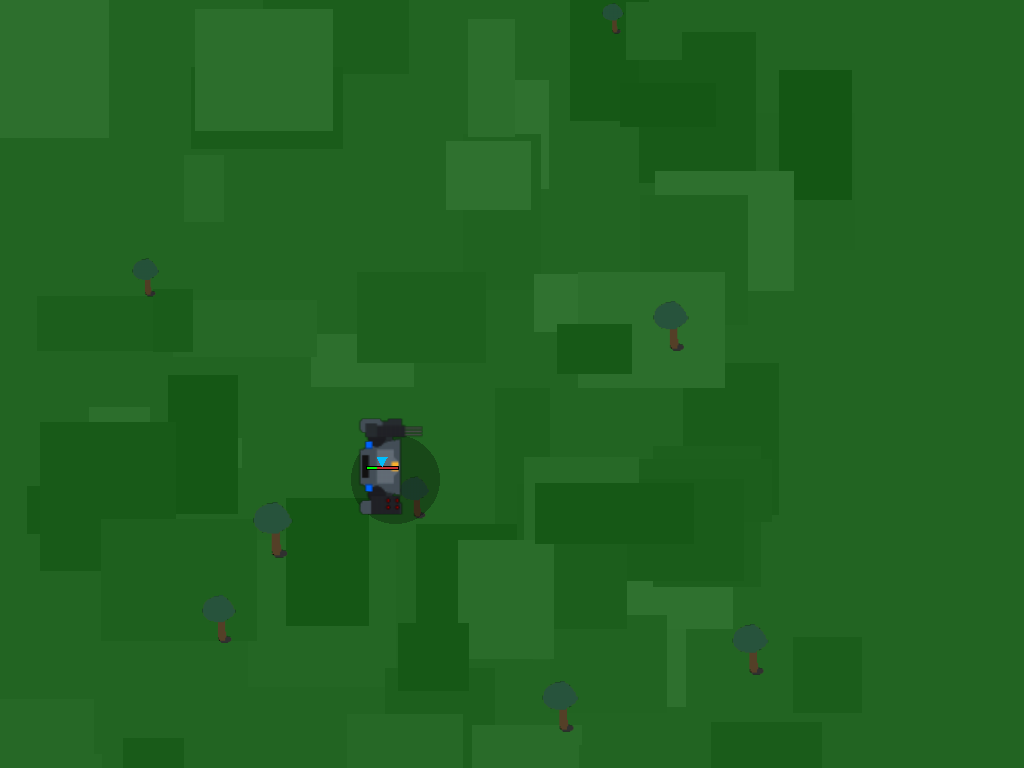HeavyMech: (348, 432, 414, 498)
